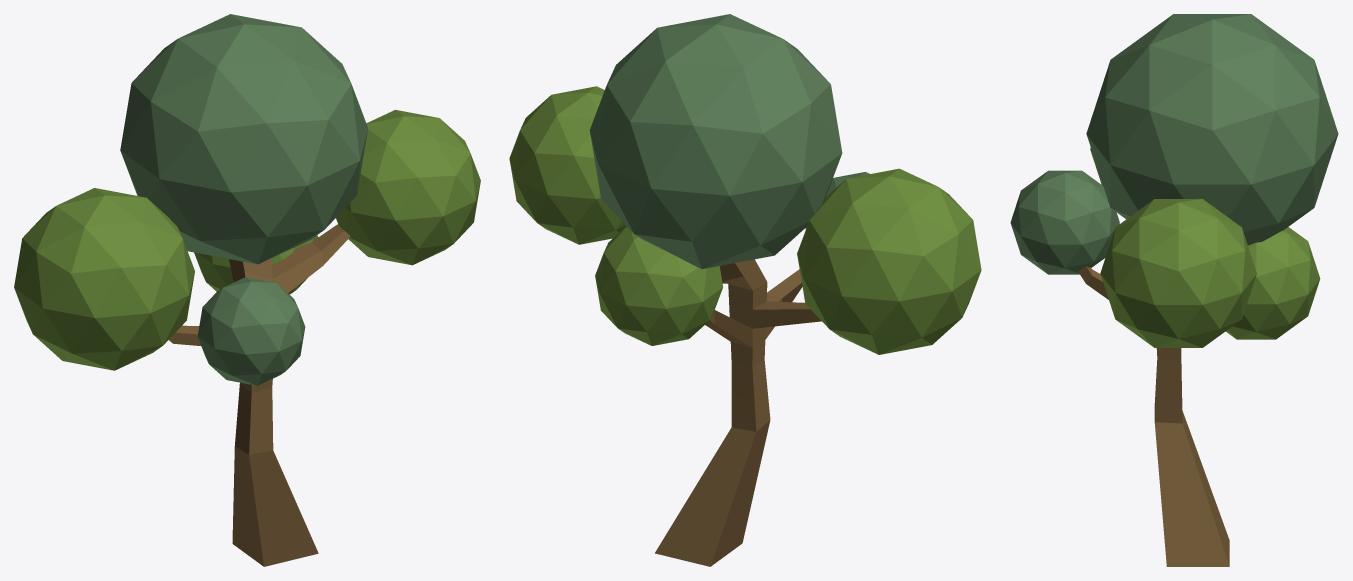
The model's file is tree2.gltf.
3 views of the same model, side by side, from view 1: azimuth 30°, elevation 25°; view 2: azimuth 150°, elevation 25°; view 3: azimuth 270°, elevation 25° (orthographic). The views are drawn at different scales.
Parts seen in each view (by area): view 1: Icosphere, Icosphere1, Cube1, Cube, Icosphere2, Icosphere3; view 2: Icosphere, Icosphere1, Cube, Cube1, Icosphere3; view 3: Icosphere, Cube1, Cube, Icosphere2, Icosphere3.
Part boxes in pixels (<box>): Icosphere: <box>120,14,367,264</box>; Icosphere1: <box>14,188,194,370</box>; Cube1: <box>336,109,480,265</box>; Cube: <box>169,224,350,566</box>; Icosphere2: <box>197,277,305,385</box>; Icosphere3: <box>194,235,318,294</box>; Icosphere: <box>589,14,842,269</box>; Icosphere1: <box>797,168,981,354</box>; Cube: <box>655,259,821,566</box>; Cube1: <box>509,86,626,244</box>; Icosphere3: <box>595,226,722,345</box>; Icosphere: <box>1086,14,1338,245</box>; Cube1: <box>1100,199,1256,347</box>; Cube: <box>1078,266,1229,566</box>; Icosphere2: <box>1010,170,1119,274</box>; Icosphere3: <box>1226,227,1320,339</box>.
Bounding box in the file's own units: 4.1 × 4.69 × 2.67.
